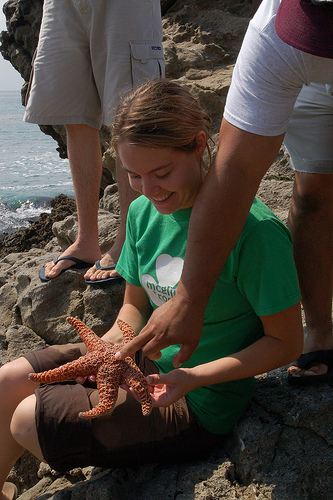without_mask: (114, 125, 208, 216)
